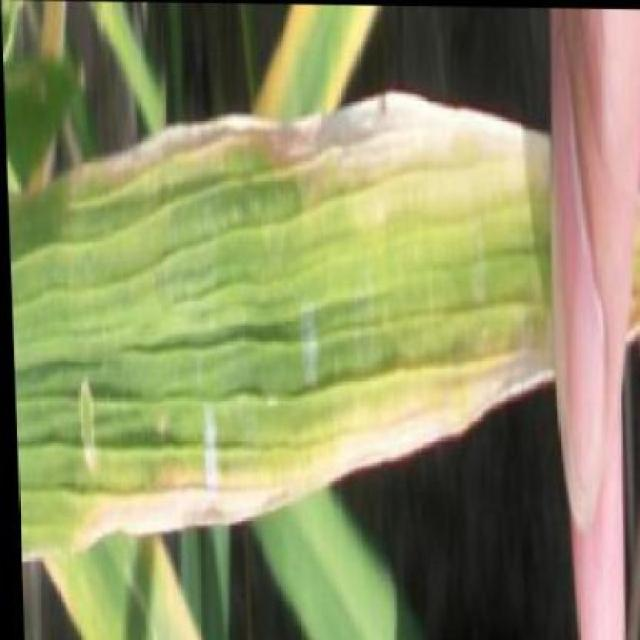Brown_Spot: (52, 101, 560, 497)
